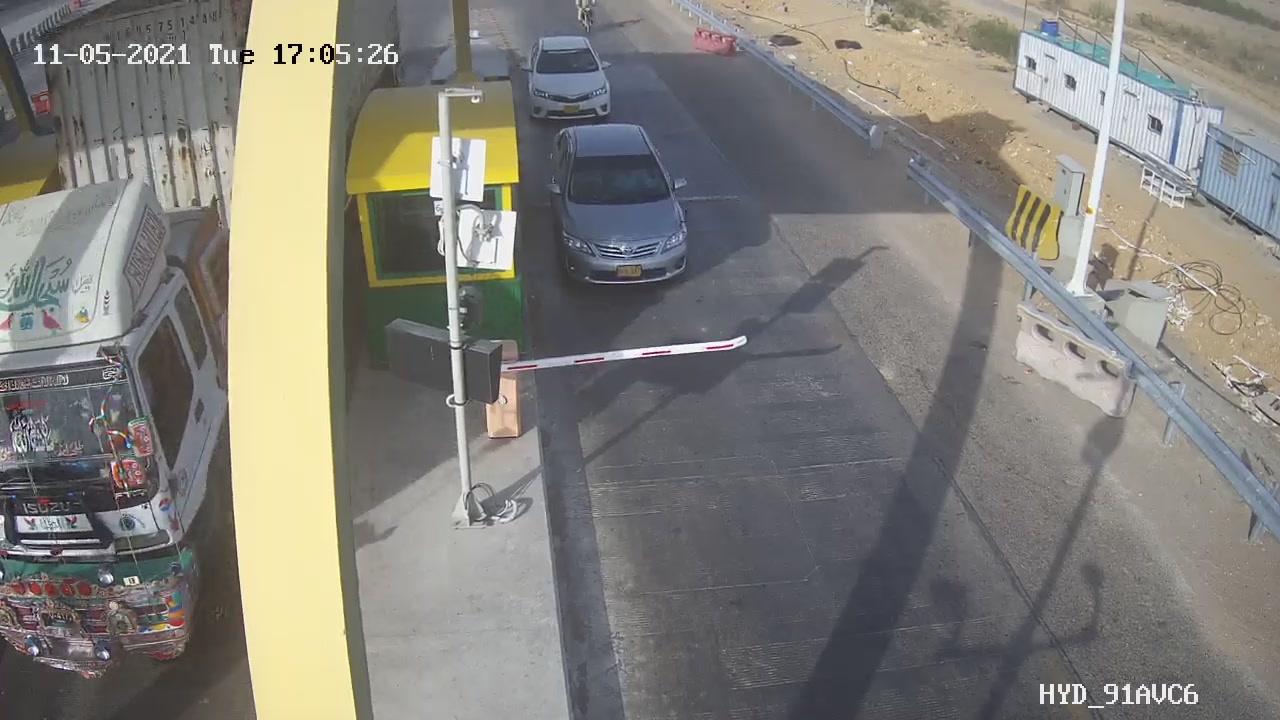F1: (529, 116, 722, 298), (508, 21, 637, 133)
